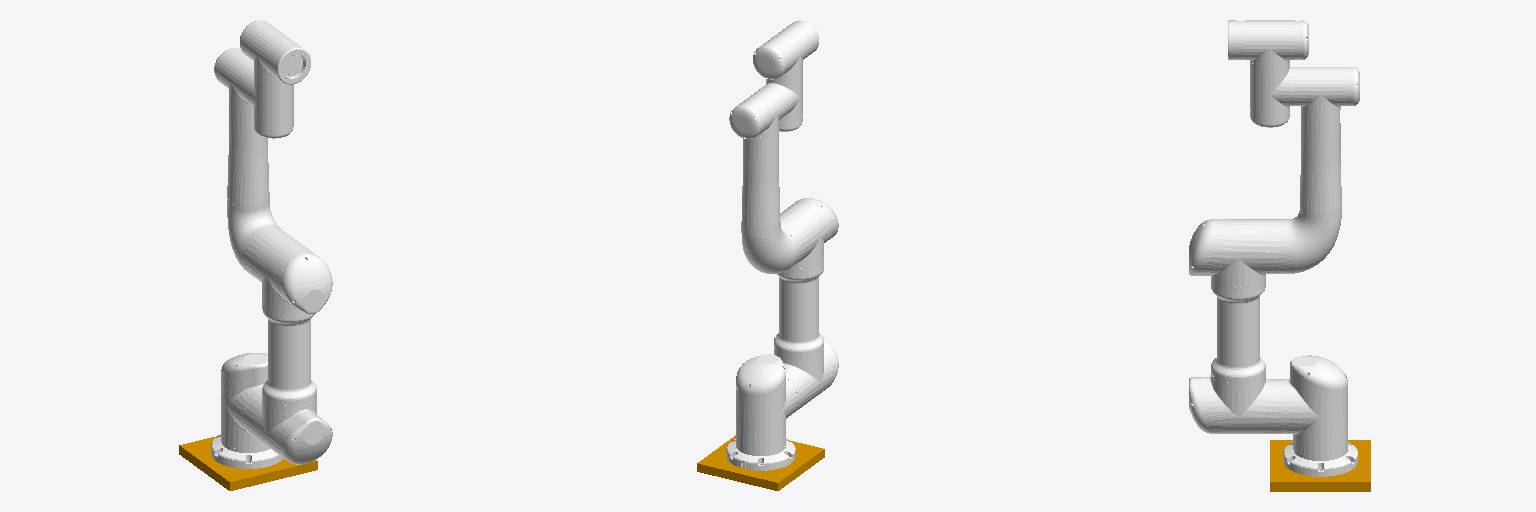
robot.urdf — c800_description:
<?xml version="1.0" encoding="utf-8" ?>
<!-- This URDF was automatically created by SolidWorks to URDF Exporter! Originally created by [author] ([email redacted]) 
     Commit Version: 1.5.1-0-g916b5db  Build Version: 1.5.7152.31018
     For more information, please see http://wiki.ros.org/sw_urdf_exporter -->
<robot name="c800_description">

    <joint name="bottom_joint" type="fixed">
        <origin xyz="0 0 0" rpy="0 0 0" />
        <parent link="base_link"/>
        <child link="bottom_link"/>
    </joint>
    <link name="bottom_link">
        <visual>
              <origin xyz=" 0 0 -0.01"  rpy="0 0 0"/>
                  <geometry>
                       <box size="0.2 0.2 0.02" />
                  </geometry>
              <material name="Brown" />
        </visual>
        <collision>
            <origin xyz=" 0 0 -0.01"  rpy="0 0 0"/>
            <geometry>
                <box size="0.2 0.2 0.02" />
            </geometry>
        </collision>
        <inertial>
            <mass value="500" />
            <inertia ixx="1.0" ixy="0.0" ixz="0.0" iyy="0.5" iyz="0.0" izz="1.0" />
        </inertial>
    </link>


    <link name="base_link">
        
<inertial>
            <origin xyz="5.1159E-06 -0.00045852 0.01511" rpy="0 0 0" />
            <mass value="0.47731" />
            <inertia ixx="0.00060819" ixy="-1.4211E-07" ixz="2.912E-08" iyy="0.00062131" iyz="-2.5797E-06" izz="0.0011481" />
        </inertial>

        <visual>
            <origin xyz="0 0 0" rpy="0 0 0" />
            <geometry>
                <mesh filename="package://c800_description/meshes/base_link.STL" />
            </geometry>
            <material name="">
                <color rgba="1 1 1 1" />
            </material>
        </visual>
        <collision>
            <origin xyz="0 0 0" rpy="0 0 0" />
            <geometry>
                <mesh filename="package://c800_description/meshes/base_link.STL" />
            </geometry>
        </collision>
    </link>
    <link name="link_1">
        
<inertial>
            <origin xyz="0.009995 0.00010952 -0.088076" rpy="0 0 0" />
            <mass value="1.8893" />
            <inertia ixx="0.0041014" ixy="-5.8451E-06" ixz="0.0003739" iyy="0.0046287" iyz="4.1148E-06" izz="0.0033533" />
        </inertial>

        <visual>
            <origin xyz="0 0 0" rpy="0 0 0" />
            <geometry>
                <mesh filename="package://c800_description/meshes/link_1.STL" />
            </geometry>
            <material name="">
                <color rgba="1 1 1 1" />
            </material>
        </visual>
        <collision>
            <origin xyz="0 0 0" rpy="0 0 0" />
            <geometry>
                <mesh filename="package://c800_description/meshes/link_1.STL" />
            </geometry>
        </collision>
    </link>
    <joint name="joint_1" type="revolute">
        <origin xyz="0 0 0.0317" rpy="3.1416 0 -1.5598" />
        <parent link="base_link" />
        <child link="link_1" />
        <axis xyz="0 0 1" />
        <limit lower="-3" upper="3" effort="100" velocity="3" />
    </joint>
    <link name="link_2">
        
<inertial>
            <origin xyz="0.087798 0.00096966 -0.1742" rpy="0 0 0" />
            <mass value="5.0587" />
            <inertia ixx="0.012152" ixy="-2.8164E-05" ixz="-3.968E-10" iyy="0.014702" iyz="-4.2598E-08" izz="0.0095763" />
        </inertial>

        <visual>
            <origin xyz="0 0 0" rpy="0 0 0" />
            <geometry>
                <mesh filename="package://c800_description/meshes/link_2.STL" />
            </geometry>
            <material name="">
                <color rgba="1 1 1 1" />
            </material>
        </visual>
        <collision>
            <origin xyz="0 0 0" rpy="0 0 0" />
            <geometry>
                <mesh filename="package://c800_description/meshes/link_2.STL" />
            </geometry>
        </collision>
    </link>
    <joint name="joint_2" type="revolute">
        <origin xyz="0.075695 0.00083599 -0.087" rpy="0 0 0" />
        <parent link="link_1" />
        <child link="link_2" />
        <axis xyz="0.99994 0.011043 0" />
        <limit lower="-3" upper="3" effort="100" velocity="3" />
    </joint>
    <link name="link_3">
        
<inertial>
            <origin xyz="-0.074461 -0.00081729 -0.18595" rpy="0 0 0" />
            <mass value="2.4785" />
            <inertia ixx="0.0066463" ixy="-2.7745E-06" ixz="-0.00025133" iyy="0.0069332" iyz="-2.9588E-06" izz="0.0024538" />
        </inertial>

        <visual>
            <origin xyz="0 0 0" rpy="0 0 0" />
            <geometry>
                <mesh filename="package://c800_description/meshes/link_3.STL" />
            </geometry>
            <material name="">
                <color rgba="1 1 1 1" />
            </material>
        </visual>
        <collision>
            <origin xyz="0 0 0" rpy="0 0 0" />
            <geometry>
                <mesh filename="package://c800_description/meshes/link_3.STL" />
            </geometry>
        </collision>
    </link>
    <joint name="joint_3" type="revolute">
        <origin xyz="0 0 -0.3484" rpy="0 0 0" />
        <parent link="link_2" />
        <child link="link_3" />
        <axis xyz="0.99994 0.011043 0" />
        <limit lower="-3" upper="3" effort="100" velocity="3" />
    </joint>
    <link name="link_4">
        
<inertial>
            <origin xyz="0.03744 0.00041334 0.011039" rpy="0 0 0" />
            <mass value="0.69512" />
            <inertia ixx="0.0007079" ixy="-9.1282E-07" ixz="-1.3418E-11" iyy="0.00079063" iyz="-9.8306E-11" izz="0.00062854" />
        </inertial>

        <visual>
            <origin xyz="0 0 0" rpy="0 0 0" />
            <geometry>
                <mesh filename="package://c800_description/meshes/link_4.STL" />
            </geometry>
            <material name="">
                <color rgba="1 1 1 1" />
            </material>
        </visual>
        <collision>
            <origin xyz="0 0 0" rpy="0 0 0" />
            <geometry>
                <mesh filename="package://c800_description/meshes/link_4.STL" />
            </geometry>
        </collision>
    </link>
    <joint name="joint_4" type="revolute">
        <origin xyz="-0.017899 -0.00019768 -0.3495" rpy="0 0 0" />
        <parent link="link_3" />
        <child link="link_4" />
        <axis xyz="-0.99994 -0.011043 0" />
        <limit lower="-3" upper="3" effort="100" velocity="3" />
    </joint>
    <link name="link_5">
        
<inertial>
            <origin xyz="-0.011486 -0.00012684 -0.045406" rpy="0 0 0" />
            <mass value="0.69038" />
            <inertia ixx="0.00062179" ixy="-1.8272E-06" ixz="1.9143E-11" iyy="0.00078721" iyz="5.7484E-12" izz="0.00070448" />
        </inertial>

        <visual>
            <origin xyz="0 0 0" rpy="0 0 0" />
            <geometry>
                <mesh filename="package://c800_description/meshes/link_5.STL" />
            </geometry>
            <material name="">
                <color rgba="1 1 1 1" />
            </material>
        </visual>
        <collision>
            <origin xyz="0 0 0" rpy="0 0 0" />
            <geometry>
                <mesh filename="package://c800_description/meshes/link_5.STL" />
            </geometry>
        </collision>
    </link>
    <joint name="joint_5" type="revolute">
        <origin xyz="0.042397 0.00046824 -0.0501" rpy="0 0 0" />
        <parent link="link_4" />
        <child link="link_5" />
        <axis xyz="0 0 1" />
        <limit lower="-3" upper="3" effort="100" velocity="3" />
    </joint>
    <link name="link_6">
        
<inertial>
            <origin xyz="0.01497 0.00016533 -6.0527E-10" rpy="0 0 0" />
            <mass value="0.13891" />
            <inertia ixx="0.00011411" ixy="5.0377E-07" ixz="1.0257E-12" iyy="6.8505E-05" iyz="-1.0223E-10" izz="6.85E-05" />
        </inertial>

        <visual>
            <origin xyz="0 0 0" rpy="0 0 0" />
            <geometry>
                <mesh filename="package://c800_description/meshes/link_6.STL" />
            </geometry>
            <material name="">
                <color rgba="1 1 1 1" />
            </material>
        </visual>
        <collision>
            <origin xyz="0 0 0" rpy="0 0 0" />
            <geometry>
                <mesh filename="package://c800_description/meshes/link_6.STL" />
            </geometry>
        </collision>
    </link>
    <joint name="joint_6" type="revolute">
        <origin xyz="0.050097 0.00055327 -0.0504" rpy="0 0 0" />
        <parent link="link_5" />
        <child link="link_6" />
        <axis xyz="1 0 0" />
        <limit lower="-3" upper="3" effort="100" velocity="3" />
    </joint>

  <link name="tool0"/>
  <joint name="joint_tool0" type="fixed">
    <origin xyz="0.03328 0 0" rpy="0 0 0" />
    <parent link="link_6" />
    <child link="tool0" />
  </joint>
    
<transmission name="trans_joint_1">
        <type>transmission_interface/SimpleTransmission</type>
        <joint name="joint_1">
            <hardwareInterface>hardware_interface/PositionJointInterface</hardwareInterface>
        </joint>
        <actuator name="joint_1_motor">
            <hardwareInterface>hardware_interface/PositionJointInterface</hardwareInterface>
            <mechanicalReduction>1</mechanicalReduction>
        </actuator>
    </transmission>
    <transmission name="trans_joint_2">
        <type>transmission_interface/SimpleTransmission</type>
        <joint name="joint_2">
            <hardwareInterface>hardware_interface/PositionJointInterface</hardwareInterface>
        </joint>
        <actuator name="joint_2_motor">
            <hardwareInterface>hardware_interface/PositionJointInterface</hardwareInterface>
            <mechanicalReduction>1</mechanicalReduction>
        </actuator>
    </transmission>
    <transmission name="trans_joint_3">
        <type>transmission_interface/SimpleTransmission</type>
        <joint name="joint_3">
            <hardwareInterface>hardware_interface/PositionJointInterface</hardwareInterface>
        </joint>
        <actuator name="joint_3_motor">
            <hardwareInterface>hardware_interface/PositionJointInterface</hardwareInterface>
            <mechanicalReduction>1</mechanicalReduction>
        </actuator>
    </transmission>
    <transmission name="trans_joint_4">
        <type>transmission_interface/SimpleTransmission</type>
        <joint name="joint_4">
            <hardwareInterface>hardware_interface/PositionJointInterface</hardwareInterface>
        </joint>
        <actuator name="joint_4_motor">
            <hardwareInterface>hardware_interface/PositionJointInterface</hardwareInterface>
            <mechanicalReduction>1</mechanicalReduction>
        </actuator>
    </transmission>
    <transmission name="trans_joint_5">
        <type>transmission_interface/SimpleTransmission</type>
        <joint name="joint_5">
            <hardwareInterface>hardware_interface/PositionJointInterface</hardwareInterface>
        </joint>
        <actuator name="joint_5_motor">
            <hardwareInterface>hardware_interface/PositionJointInterface</hardwareInterface>
            <mechanicalReduction>1</mechanicalReduction>
        </actuator>
    </transmission>
    <transmission name="trans_joint_6">
        <type>transmission_interface/SimpleTransmission</type>
        <joint name="joint_6">
            <hardwareInterface>hardware_interface/PositionJointInterface</hardwareInterface>
        </joint>
        <actuator name="joint_6_motor">
            <hardwareInterface>hardware_interface/PositionJointInterface</hardwareInterface>
            <mechanicalReduction>1</mechanicalReduction>
        </actuator>
    </transmission>
    <gazebo>
        <plugin name="gazebo_ros_control" filename="libgazebo_ros_control.so">
            <robotNamespace>/</robotNamespace>
        </plugin>
    </gazebo>
</robot>

--- Facts derived from the render (not from the file) ---
3 views of the same robot in one strip: view 1: azimuth 30°, elevation 25°; view 2: azimuth 150°, elevation 25°; view 3: azimuth 270°, elevation 25° (orthographic).
Model c800_description with 9 links and 8 joints (6 revolute, 2 fixed), rooted at base_link, posed all joints at 0.
Links seen in each view (by area): view 1: link_2, link_3, link_1, bottom_link, link_4, link_5, link_6, base_link; view 2: link_2, link_3, link_1, bottom_link, link_5, base_link, link_4; view 3: link_2, link_3, link_1, bottom_link, link_5, link_4, base_link, link_6.
Boxes of the visible links, x1,y1,x2,y2 form: link_2: [244, 228, 332, 464]; link_3: [214, 48, 281, 273]; link_1: [221, 353, 267, 449]; bottom_link: [179, 436, 317, 490]; link_4: [246, 72, 293, 138]; link_5: [240, 20, 296, 78]; link_6: [269, 42, 310, 84]; base_link: [211, 434, 283, 468]; link_2: [774, 198, 838, 409]; link_3: [729, 84, 799, 273]; link_1: [736, 354, 800, 452]; bottom_link: [697, 435, 824, 490]; link_5: [753, 26, 811, 79]; base_link: [726, 439, 795, 470]; link_4: [766, 70, 802, 131]; link_2: [1189, 219, 1281, 433]; link_3: [1282, 67, 1359, 273]; link_1: [1282, 355, 1347, 457]; bottom_link: [1270, 440, 1370, 491]; link_5: [1245, 20, 1308, 67]; link_4: [1250, 61, 1290, 127]; base_link: [1283, 442, 1357, 476]; link_6: [1228, 20, 1244, 59].
Bounding box of the posed robot: 0.2 × 0.3607 × 0.9761 m (x, y, z).
Meshes: 7 distinct files referenced, 7 mesh visuals loaded (7 binary STL).
